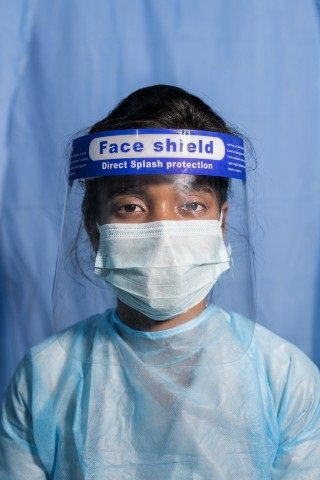Coverall: (6, 303, 320, 480)
with_mask: (98, 195, 225, 320)
